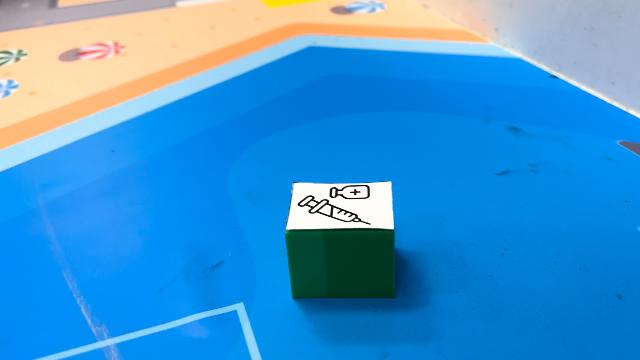syringe: (284, 181, 396, 299)
